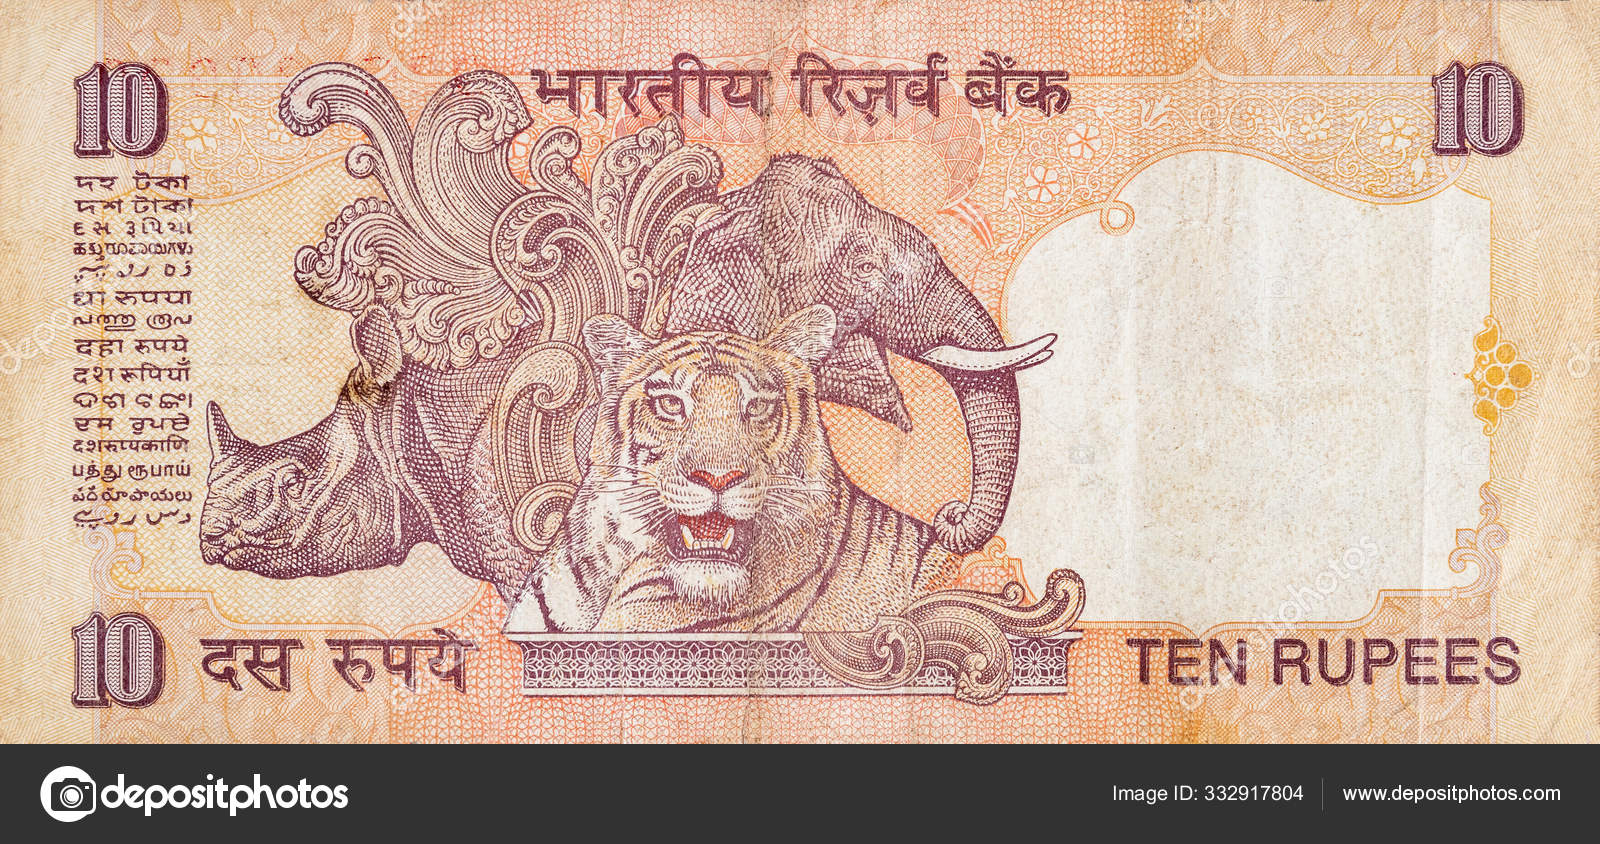ten_rupees_note: (1, 2, 1600, 742)
